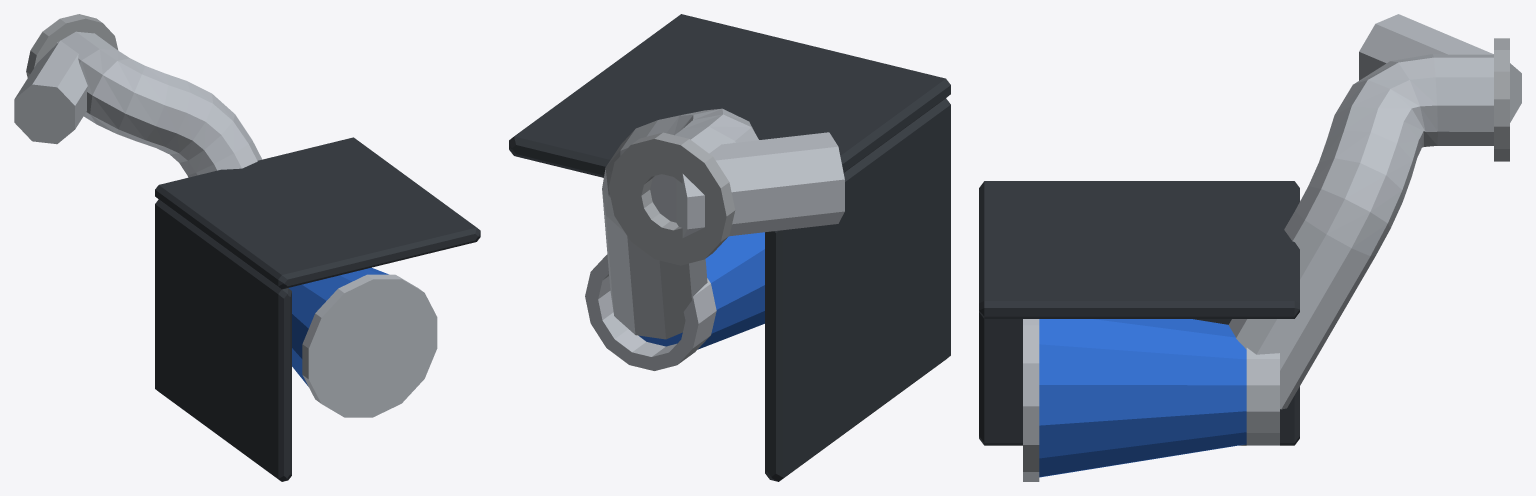
File: cold_air_intake.glb
3 renders of one model, left to right at view 1: azimuth 30°, elevation 25°; view 2: azimuth 150°, elevation 25°; view 3: azimuth 270°, elevation 25°, orthographic. The views are drawn at different scales.
Visible parts, largest first — view 1: model; view 2: model; view 3: model.
Part boxes in pixels (<box>): model: <box>14,14,480,481</box>; model: <box>509,14,950,481</box>; model: <box>979,14,1521,481</box>.
Size of the model in its own units: 0.3209 by 0.3261 by 0.4059.
2 materials, 1 textured.
